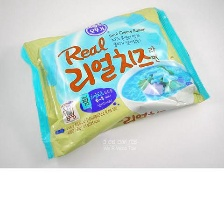snack: (14, 2, 215, 163)
